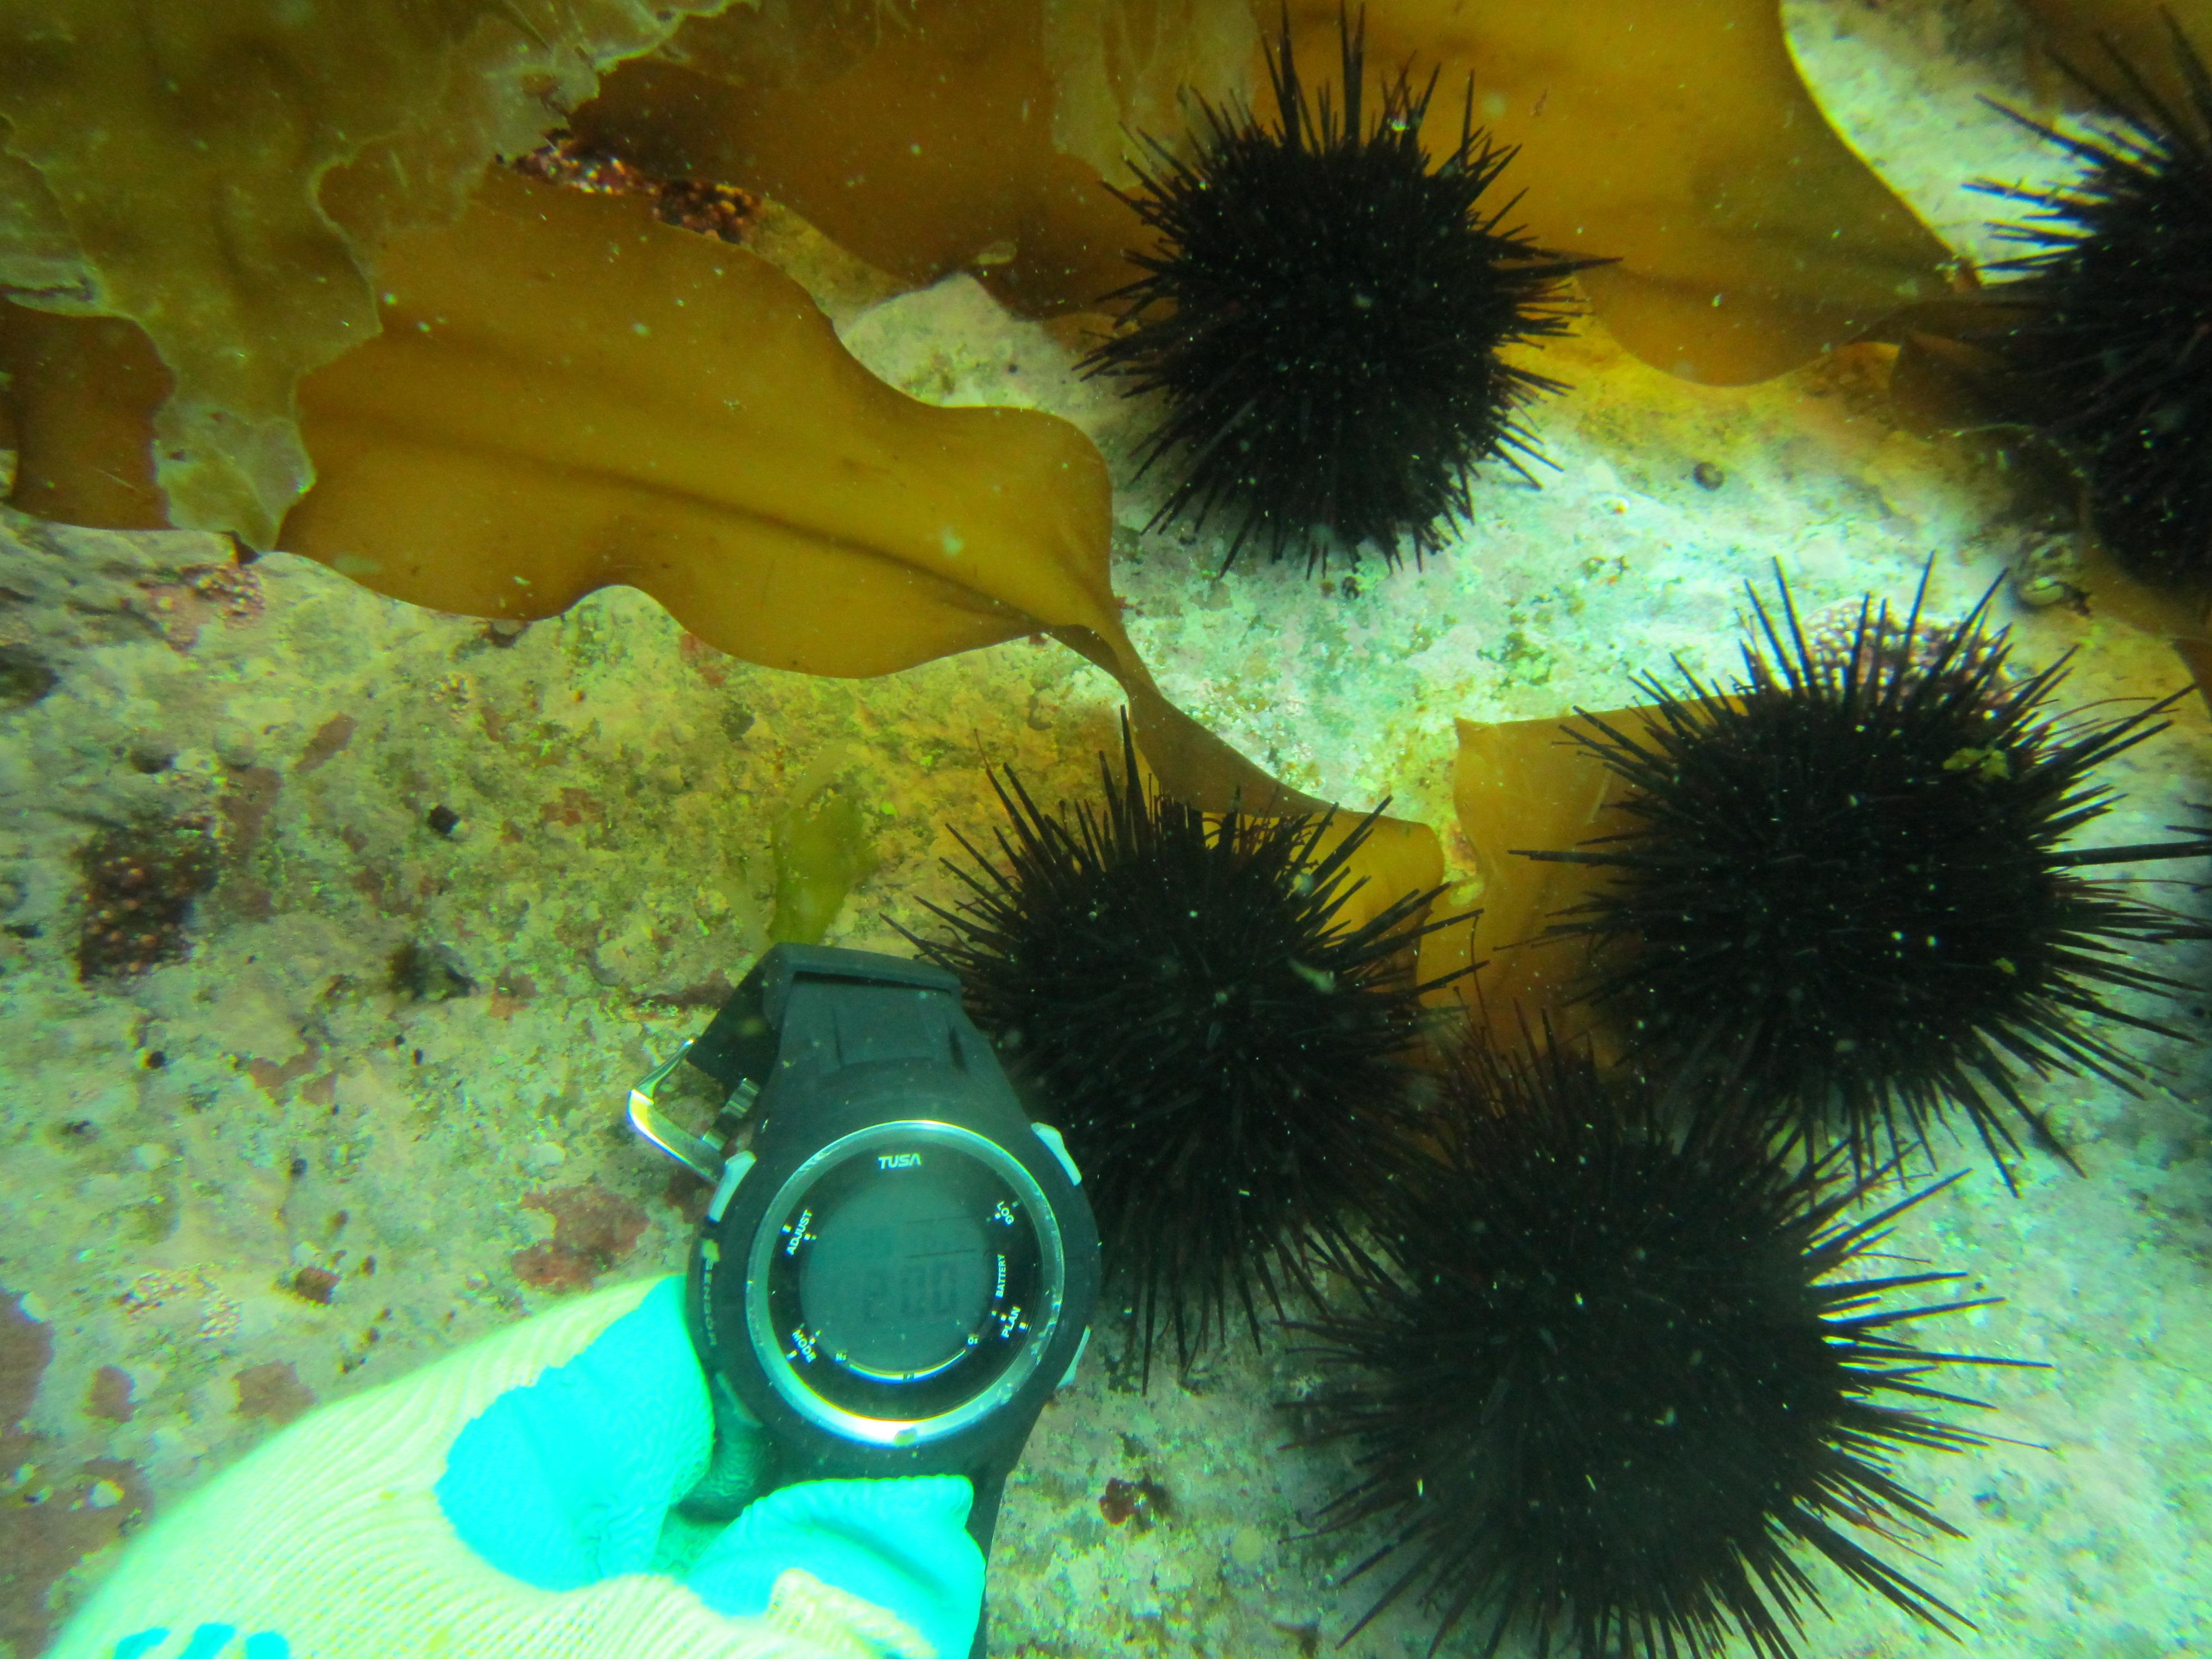urchin: (1301, 1051, 1892, 1626), (1575, 612, 2142, 1178), (1122, 98, 1568, 568)
